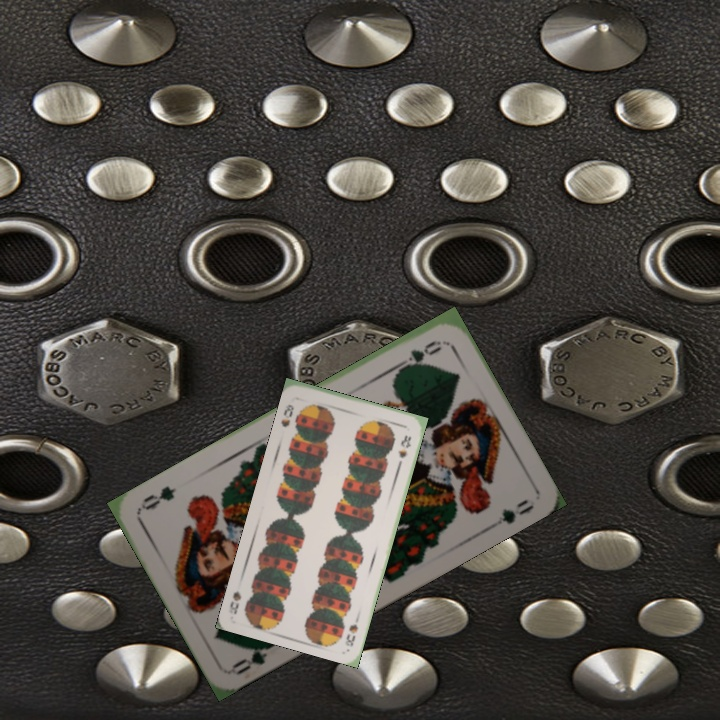GO: (228, 636, 281, 678), (391, 336, 444, 376)
S8: (341, 609, 363, 649), (277, 400, 296, 430)
